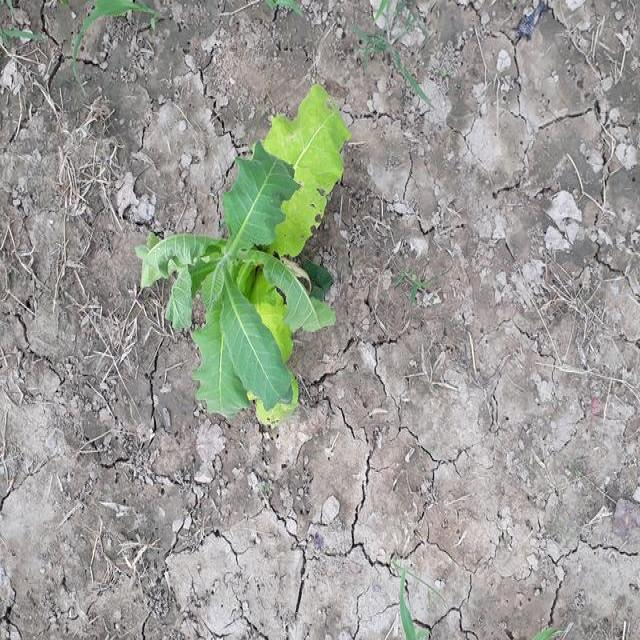crop: (142, 82, 343, 406)
